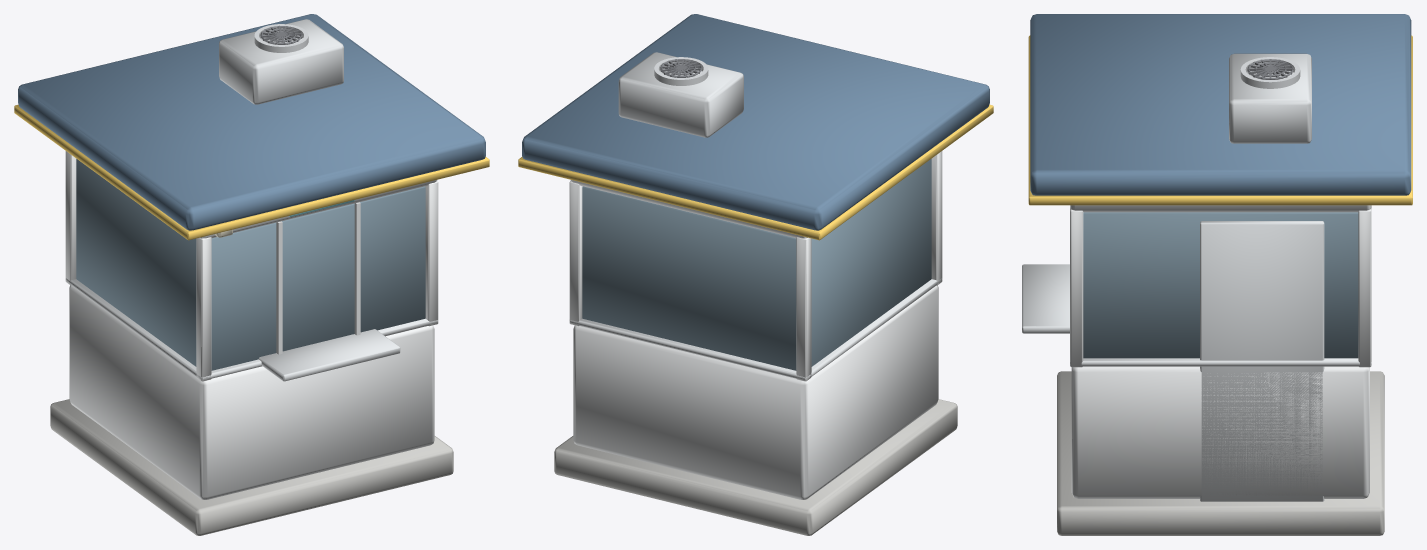
The model's file is guard_booth.glb.
The picture shows the model from 3 angles, left to right: view 1: azimuth 30°, elevation 25°; view 2: azimuth 150°, elevation 25°; view 3: azimuth 270°, elevation 25°; orthographic projection. The views are drawn at different scales.
Parts seen in each view (by area): view 1: Body; view 2: Body; view 3: Body.
Boxes of the visible parts, x1,y1,x2,y2 form: Body: (14, 14, 489, 535); Body: (518, 14, 993, 535); Body: (1022, 14, 1412, 535).
Size of the model in its own units: 2.32 by 2.85 by 2.36.
